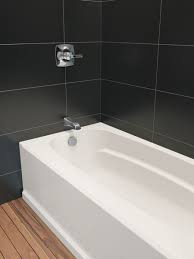bathub: (3, 115, 194, 259)
